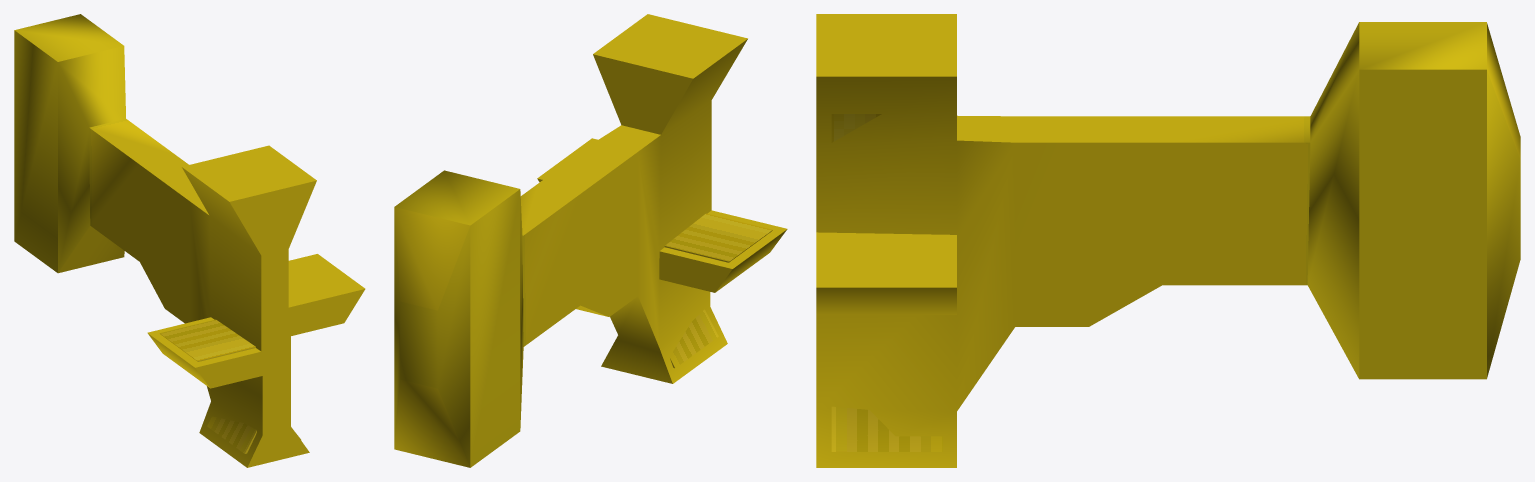
Rendered from INST_OH_TROLL_LOCK_KEY.obj.
3 renders of one model, left to right at view 1: azimuth 30°, elevation 25°; view 2: azimuth 150°, elevation 25°; view 3: azimuth 270°, elevation 25°, orthographic. The views are drawn at different scales.
Visible parts, largest first — view 1: keyoutline, troll_key; view 2: keyoutline, troll_key; view 3: keyoutline, troll_key.
Boxes of the visible parts, x1,y1,x2,y2 form: keyoutline: [14, 14, 365, 467]; troll_key: [160, 319, 301, 453]; keyoutline: [394, 14, 787, 467]; troll_key: [664, 213, 772, 368]; keyoutline: [816, 14, 1520, 467]; troll_key: [831, 114, 942, 451].
Size of the model in its own units: 39.45 by 60.04 by 96.27.
